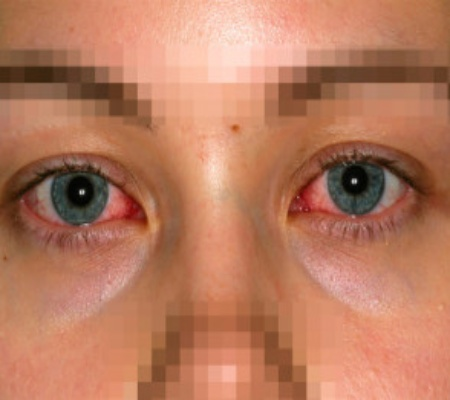SJS-TEN: (278, 233, 450, 400), (26, 0, 450, 61), (0, 243, 151, 400)
